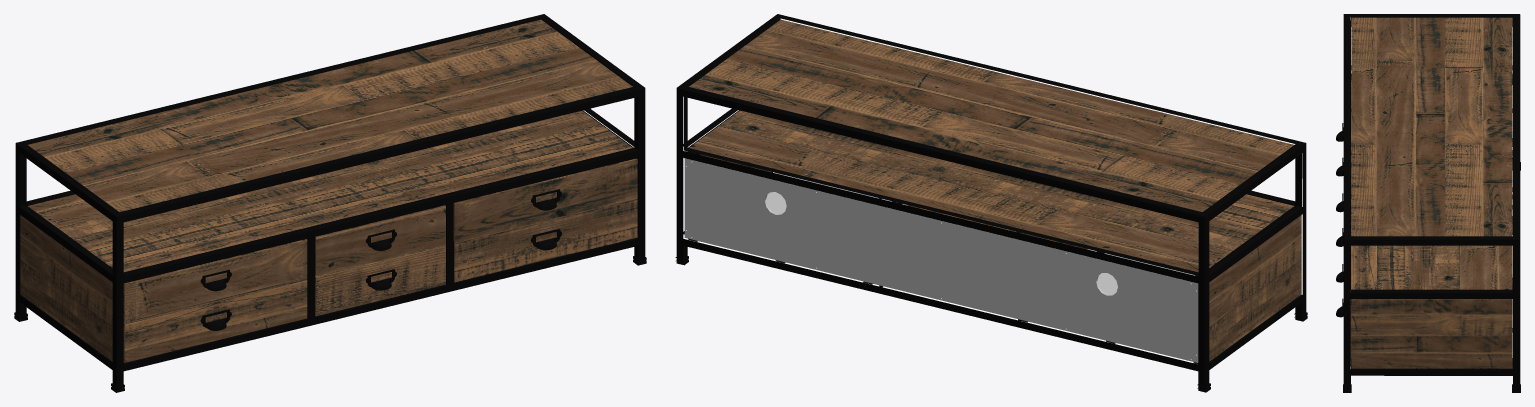
The picture shows the model from 3 angles, left to right: view 1: azimuth 30°, elevation 25°; view 2: azimuth 150°, elevation 25°; view 3: azimuth 270°, elevation 25°; orthographic projection. The views are drawn at different scales.
Parts seen in each view (by area): view 1: MANUF05.wood.Inner_MANUF05.003, MANUF05.metal_MANUF05.002; view 2: MANUF05.wood.Inner_MANUF05.003, MANUF05.wood.Inner.001_MANUF05.004, MANUF05.metal_MANUF05.002; view 3: MANUF05.wood.Inner_MANUF05.003, MANUF05.metal_MANUF05.002.
Boxes of the visible parts, bbox=[...] form: MANUF05.wood.Inner_MANUF05.003: bbox=[20, 19, 637, 362]; MANUF05.metal_MANUF05.002: bbox=[14, 14, 646, 392]; MANUF05.wood.Inner_MANUF05.003: bbox=[685, 19, 1301, 361]; MANUF05.wood.Inner.001_MANUF05.004: bbox=[684, 158, 1198, 362]; MANUF05.metal_MANUF05.002: bbox=[675, 14, 1307, 392]; MANUF05.wood.Inner_MANUF05.003: bbox=[1350, 17, 1512, 368]; MANUF05.metal_MANUF05.002: bbox=[1336, 14, 1520, 392].
Size of the model in its own units: 1.47 by 0.465 by 0.5082.
Materials: 4 (1 with a texture image).
